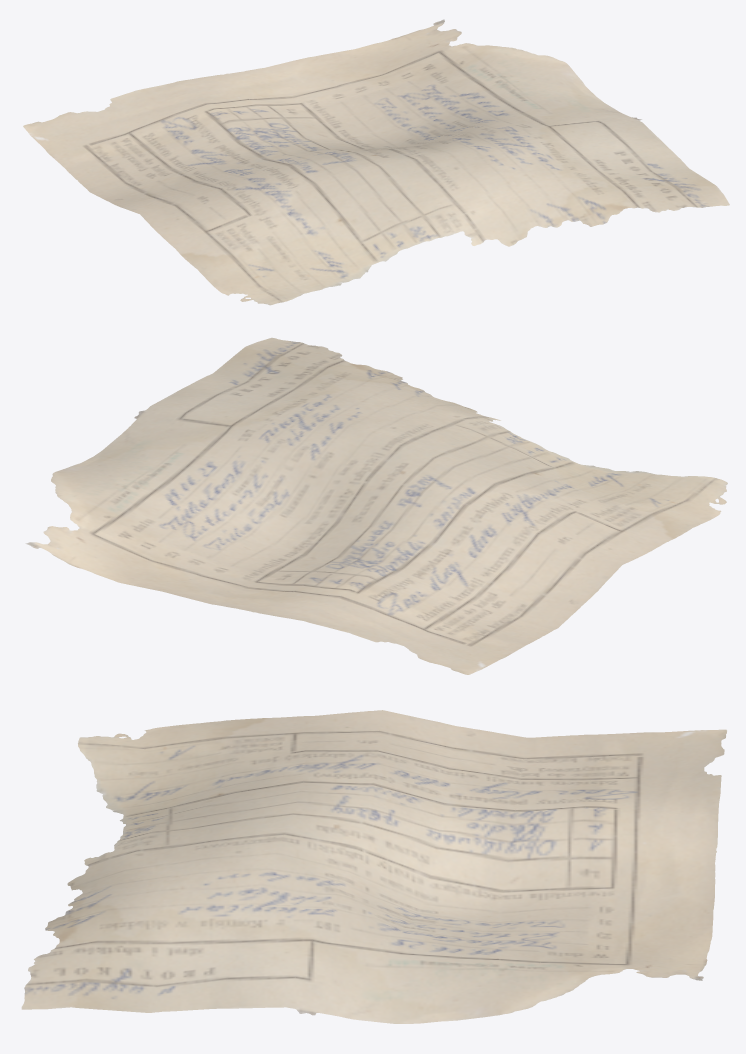
Rendered from SM_Paper_017.fbx.
3 views of the same model, one above another, from view 1: azimuth 30°, elevation 25°; view 2: azimuth 150°, elevation 25°; view 3: azimuth 270°, elevation 25° (orthographic). The views are drawn at different scales.
Visible parts, largest first — view 1: SM_Paper_017; view 2: SM_Paper_017; view 3: SM_Paper_017.
Part boxes in pixels (x1=…): SM_Paper_017: x1=23, y1=19, x2=729, y2=305; SM_Paper_017: x1=25, y1=337, x2=727, y2=674; SM_Paper_017: x1=21, y1=710, x2=726, y2=1023.
Size of the model in its own units: 39.41 by 36.73 by 3.25.
1 material, 1 textured.
